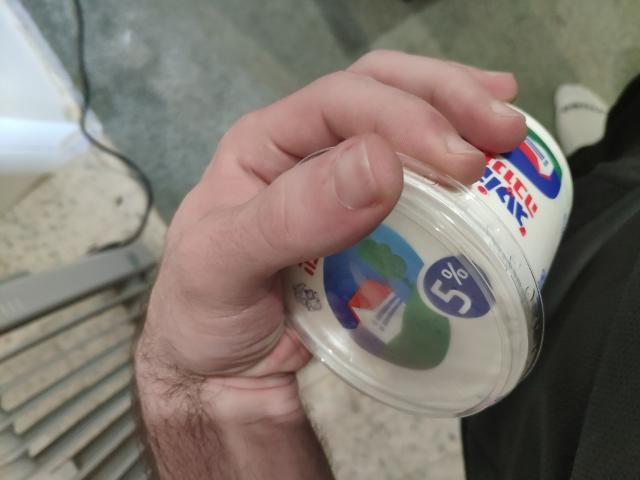cotage: (288, 91, 571, 428)
